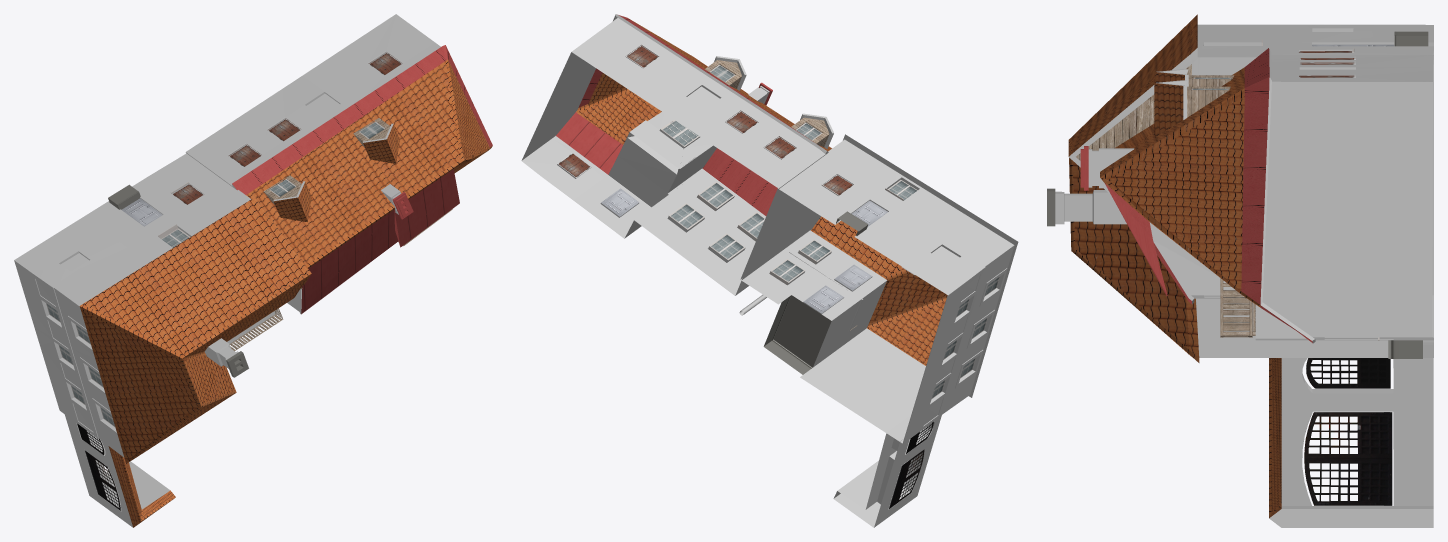
File: Kooli_4.obj
The picture shows the model from 3 angles, left to right: view 1: azimuth 30°, elevation 25°; view 2: azimuth 150°, elevation 25°; view 3: azimuth 270°, elevation 25°; orthographic projection. The views are drawn at different scales.
Visible parts, largest first — view 1: Kooli_4; view 2: Kooli_4; view 3: Kooli_4.
Part boxes in pixels (bbox=[...]): Kooli_4: bbox=[14, 14, 492, 527]; Kooli_4: bbox=[521, 14, 1018, 527]; Kooli_4: bbox=[1047, 14, 1433, 527].
Bounding box in the file's own units: 22.59 × 20.18 × 9.99.
